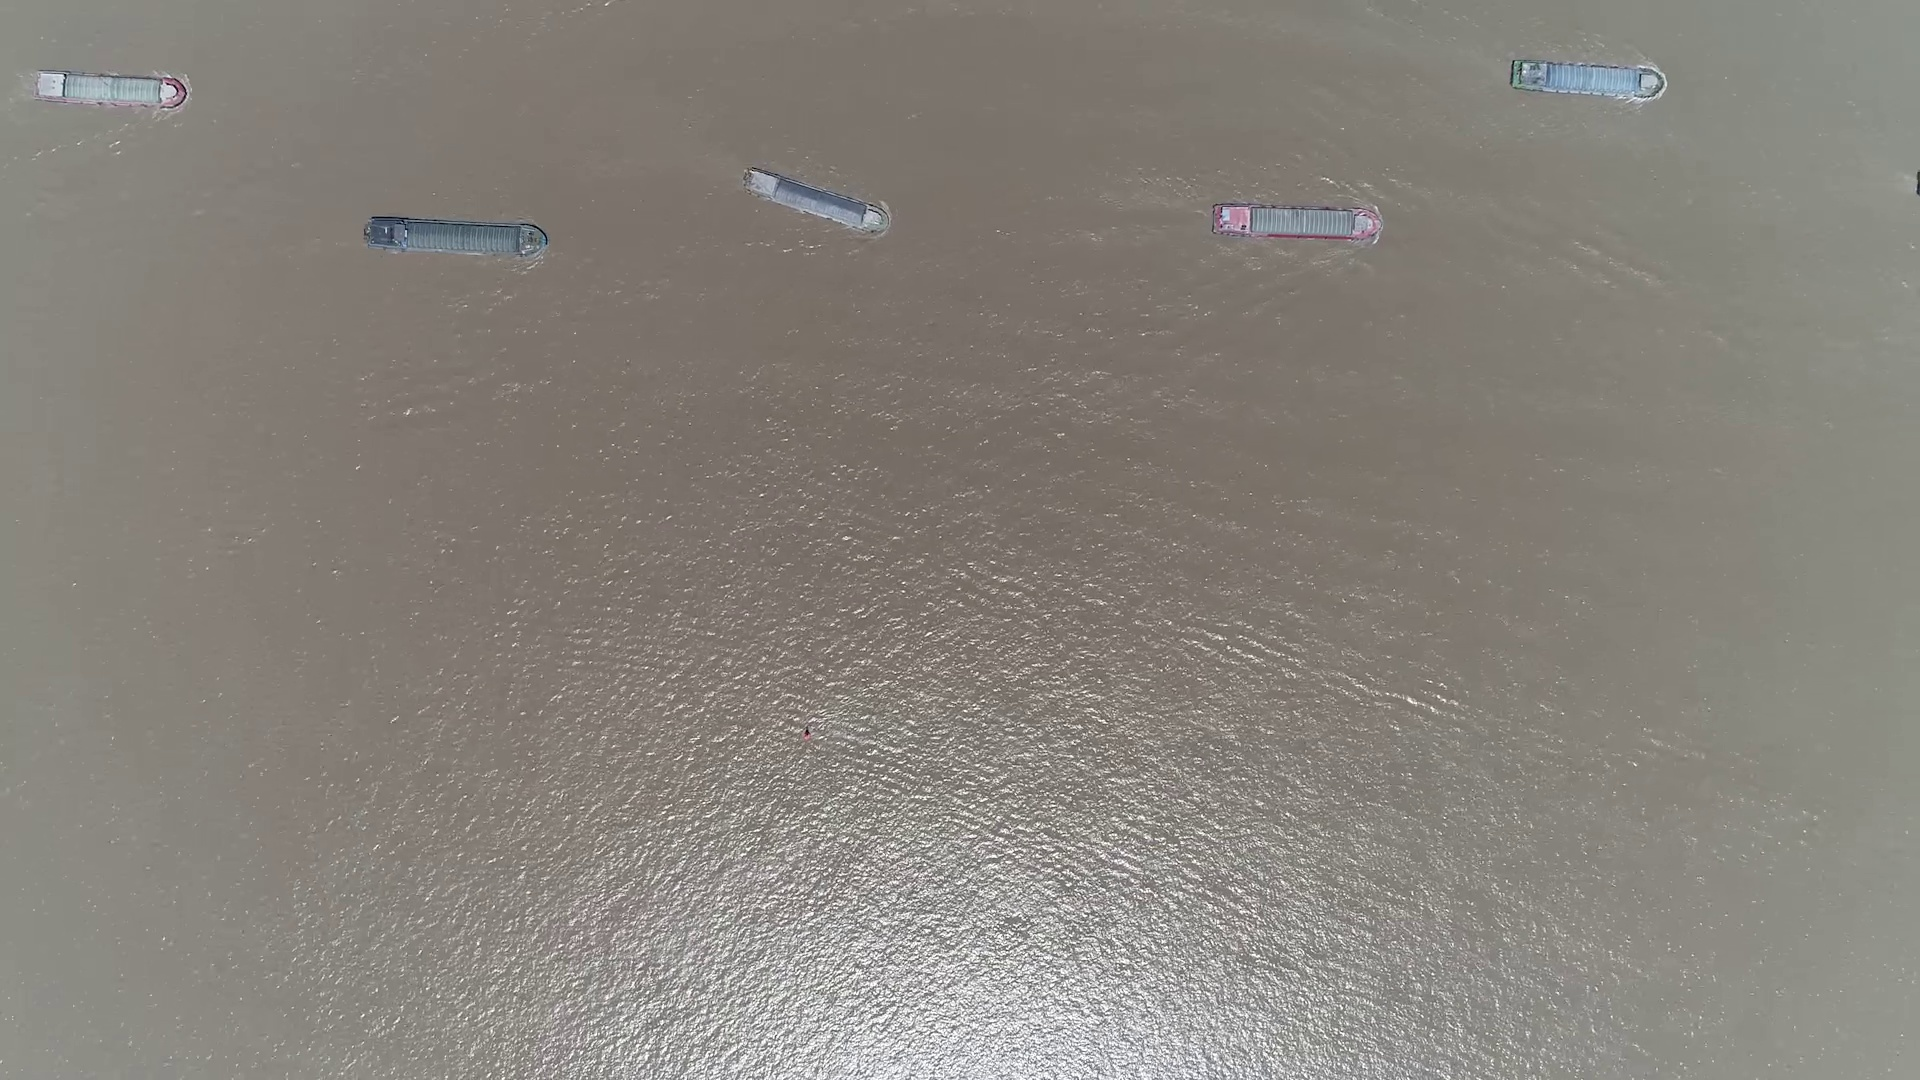ship: (742, 167, 889, 233), (363, 216, 546, 257), (1211, 204, 1379, 240), (1510, 62, 1659, 98), (32, 73, 185, 105)
